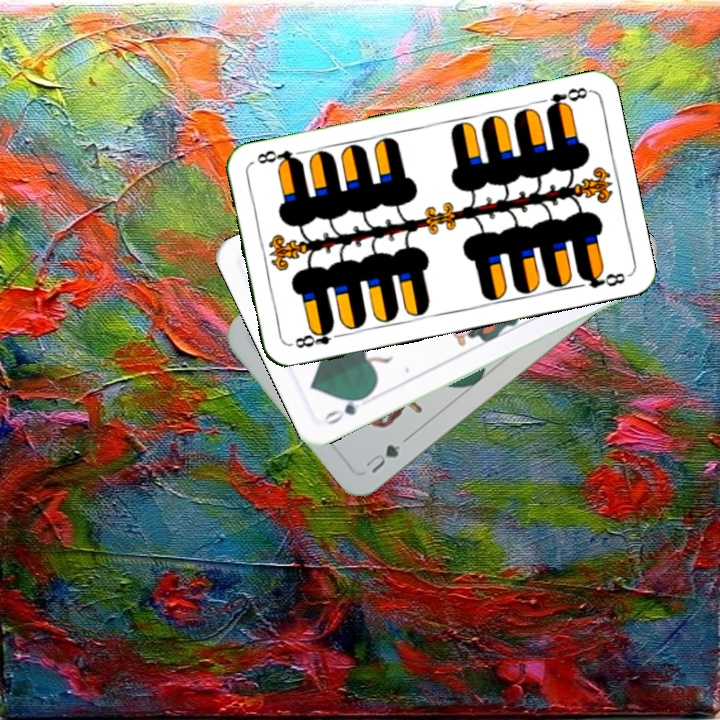E8: (541, 83, 592, 115), (291, 322, 346, 351)
GO: (320, 390, 372, 428)
GU: (360, 440, 404, 476)
